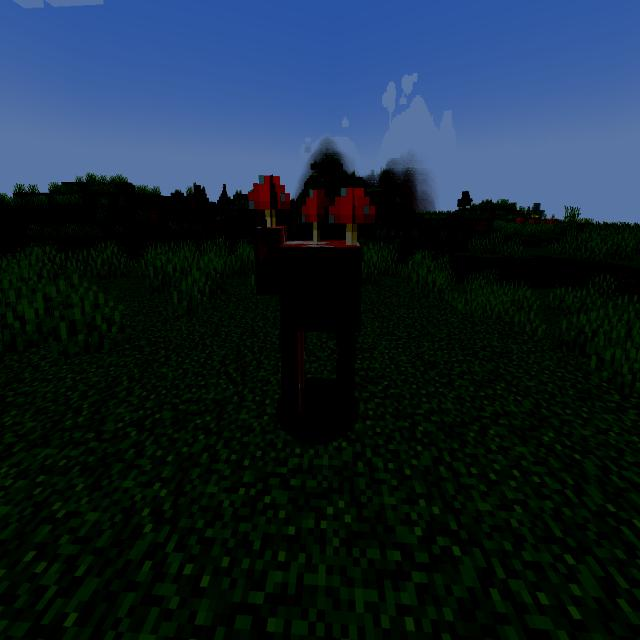Mooshroom: (242, 158, 387, 466)
